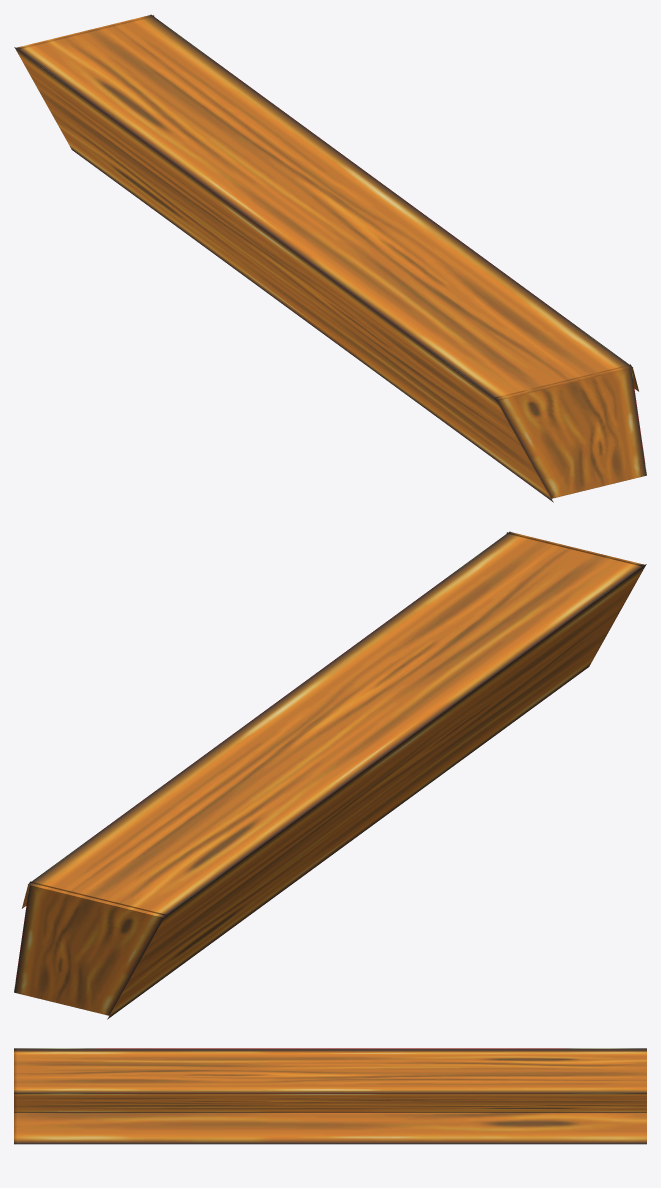
The model's file is Theke_330.glb.
3 views of the same model, one above another, from view 1: azimuth 30°, elevation 25°; view 2: azimuth 150°, elevation 25°; view 3: azimuth 270°, elevation 25° (orthographic). The views are drawn at different scales.
Visible parts, largest first — view 1: pPlaneShape1, pPlaneShape2, pPlaneShape3; view 2: pPlaneShape1, pPlaneShape2, pPlaneShape4; view 3: pPlaneShape1, pPlaneShape2, pPlaneShape5.
Part boxes in pixels (x1=…): pPlaneShape1: x1=16, y1=15, x2=632, y2=400; pPlaneShape2: x1=14, y1=47, x2=553, y2=502; pPlaneShape3: x1=495, y1=364, x2=646, y2=498; pPlaneShape1: x1=28, y1=532, x2=644, y2=917; pPlaneShape2: x1=107, y1=564, x2=646, y2=1019; pPlaneShape4: x1=14, y1=881, x2=165, y2=1015; pPlaneShape1: x1=14, y1=1050, x2=646, y2=1093; pPlaneShape2: x1=14, y1=1048, x2=646, y2=1144; pPlaneShape5: x1=14, y1=1093, x2=646, y2=1112.
Bounding box in the file's own units: 0.1321 × 0.0967 × 0.7188.
Materials: 5 (5 with a texture image).
